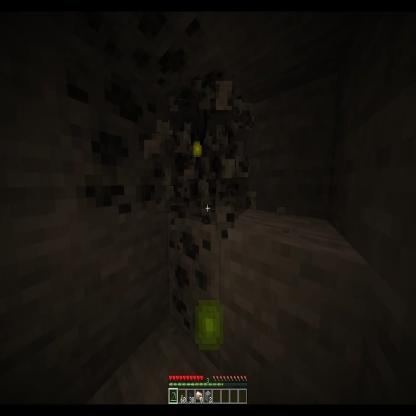coal ore: (166, 201, 247, 372), (79, 96, 169, 238), (105, 6, 218, 98)
